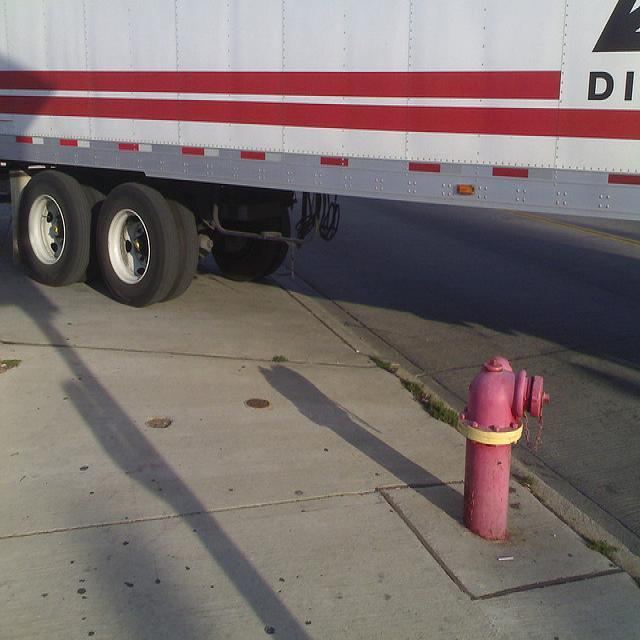fire_hydrant: (457, 352, 550, 540)
